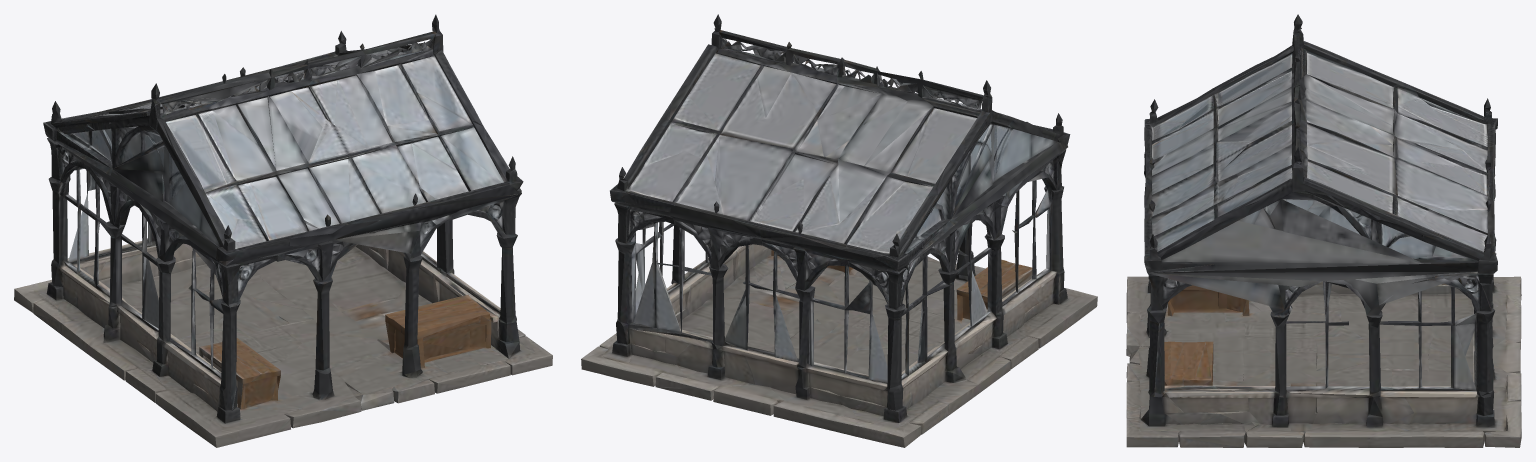
The model's file is market.glb.
3 renders of one model, left to right at view 1: azimuth 30°, elevation 25°; view 2: azimuth 150°, elevation 25°; view 3: azimuth 270°, elevation 25°, orthographic. The views are drawn at different scales.
Size of the model in its own units: 1.83 by 1.53 by 1.9.
1 material, 1 textured.
